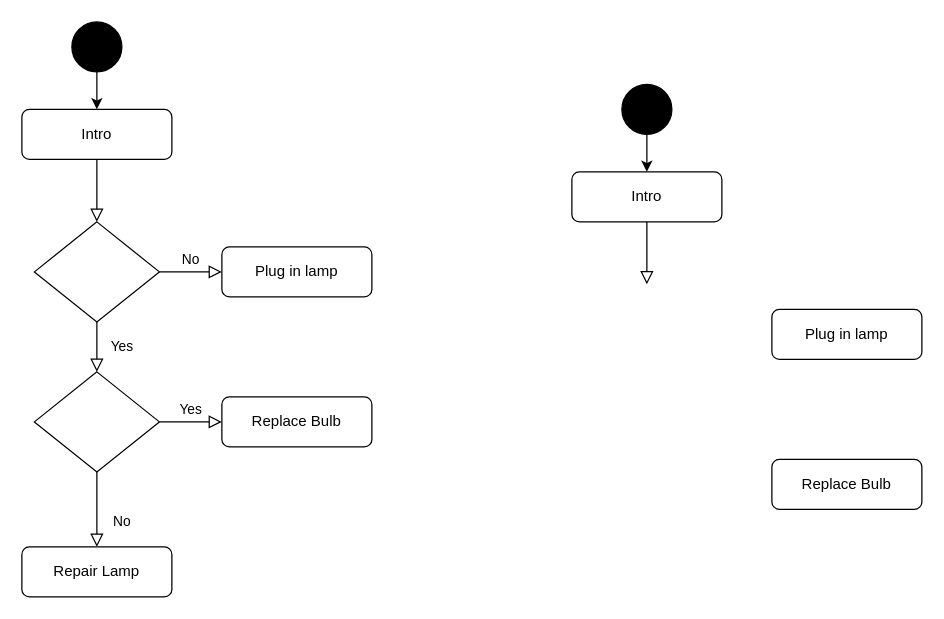
Some shapes in this 944 by 619 pixel diagram are drawn without their labels. Each missing label, with the centre of its shape:
"Bulb burned out?" goes at [96,421].
"Szene 1" goes at [96,271].
